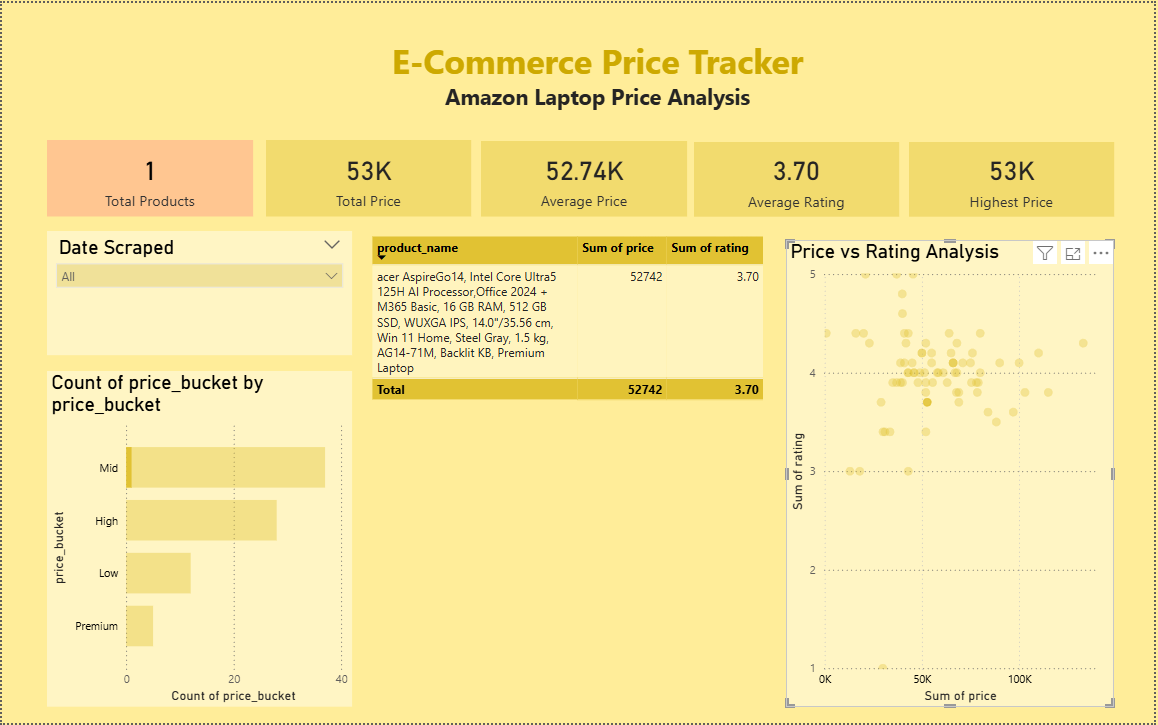

Layout of this report page (visuals, bound fields, positions):
{"tool":"powerbi","page":{"name":"Page 1","canvas":[1280,800],"ordinal":0},"visuals":[{"type":"card","fields":{"Values":["CountNonNull(ecommerce_tracker total_products.product_name)"]},"box":[50,152.1,228.8,85],"z":0},{"type":"card","fields":{"Values":["Avg(ecommerce_tracker total_products.price)"]},"box":[532.5,153.4,228.8,83.8],"z":1000},{"type":"textbox","box":[80,33.3,1163.3,103.3],"z":2000},{"type":"card","fields":{"Values":["Sum(ecommerce_tracker total_products.price)"]},"box":[293.8,152.1,227.5,85],"z":3000},{"type":"card","fields":{"Values":["Sum(ecommerce_tracker total_products.rating)"]},"box":[768.8,154.6,227.5,82.5],"z":4000},{"type":"card","fields":{"Values":["Max(ecommerce_tracker total_products.price)"]},"box":[1007.5,154.6,227.5,82.5],"z":5000},{"type":"clusteredBarChart","fields":{"Category":["ecommerce_tracker total_products.price_bucket"],"Y":["CountNonNull(ecommerce_tracker total_products.price_bucket)"]},"box":[50,408.9,338.9,373.3],"z":6000},{"type":"tableEx","title":"Top Expensive Laptops","fields":{"Values":["ecommerce_tracker total_products.product_name","Sum(ecommerce_tracker total_products.price)","Sum(ecommerce_tracker total_products.rating)"]},"box":[405.6,254.4,445.6,527.8],"z":7000},{"type":"slicer","title":"Date Scraped","fields":{"Values":["ecommerce_tracker total_products.date_scraped"]},"box":[50,253.3,338.9,137.8],"z":8000},{"type":"scatterChart","title":"Price vs Rating Analysis","fields":{"X":["Sum(ecommerce_tracker total_products.price)"],"Y":["Sum(ecommerce_tracker total_products.rating)"],"Category":["ecommerce_tracker total_products.product_name"]},"box":[871.1,263.3,364.4,518.9],"z":9000}]}

Visuals, with their boxes in screenshot pixels (x1, y1, x2, y2), scaled from the page's 1280x800 canvas onto the 1158x725 screenshot:
card - CountNonNull(ecommerce_tracker total_products.product_name): [left=45, top=138, right=252, bottom=215]
card - Avg(ecommerce_tracker total_products.price): [left=482, top=139, right=689, bottom=215]
textbox: [left=72, top=30, right=1125, bottom=124]
card - Sum(ecommerce_tracker total_products.price): [left=266, top=138, right=472, bottom=215]
card - Sum(ecommerce_tracker total_products.rating): [left=696, top=140, right=901, bottom=215]
card - Max(ecommerce_tracker total_products.price): [left=911, top=140, right=1117, bottom=215]
clusteredBarChart - ecommerce_tracker total_products.price_bucket x CountNonNull(ecommerce_tracker total_products.price_bucket): [left=45, top=371, right=352, bottom=709]
"Top Expensive Laptops" tableEx: [left=367, top=231, right=770, bottom=709]
"Date Scraped" slicer: [left=45, top=230, right=352, bottom=354]
"Price vs Rating Analysis" scatterChart: [left=788, top=239, right=1118, bottom=709]
